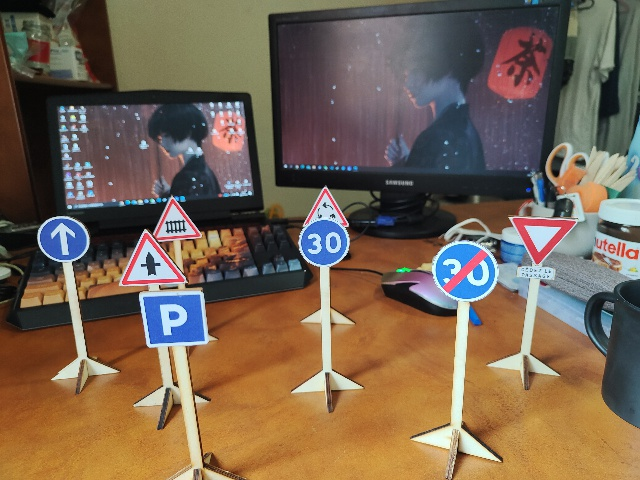P: (137, 288, 209, 347)
ban: (434, 242, 496, 300)
cycle: (301, 187, 345, 225)
first: (116, 230, 187, 286)
second: (512, 215, 579, 280)
straight: (36, 216, 90, 263)
thirty: (299, 219, 350, 267)
train: (152, 198, 201, 241)
